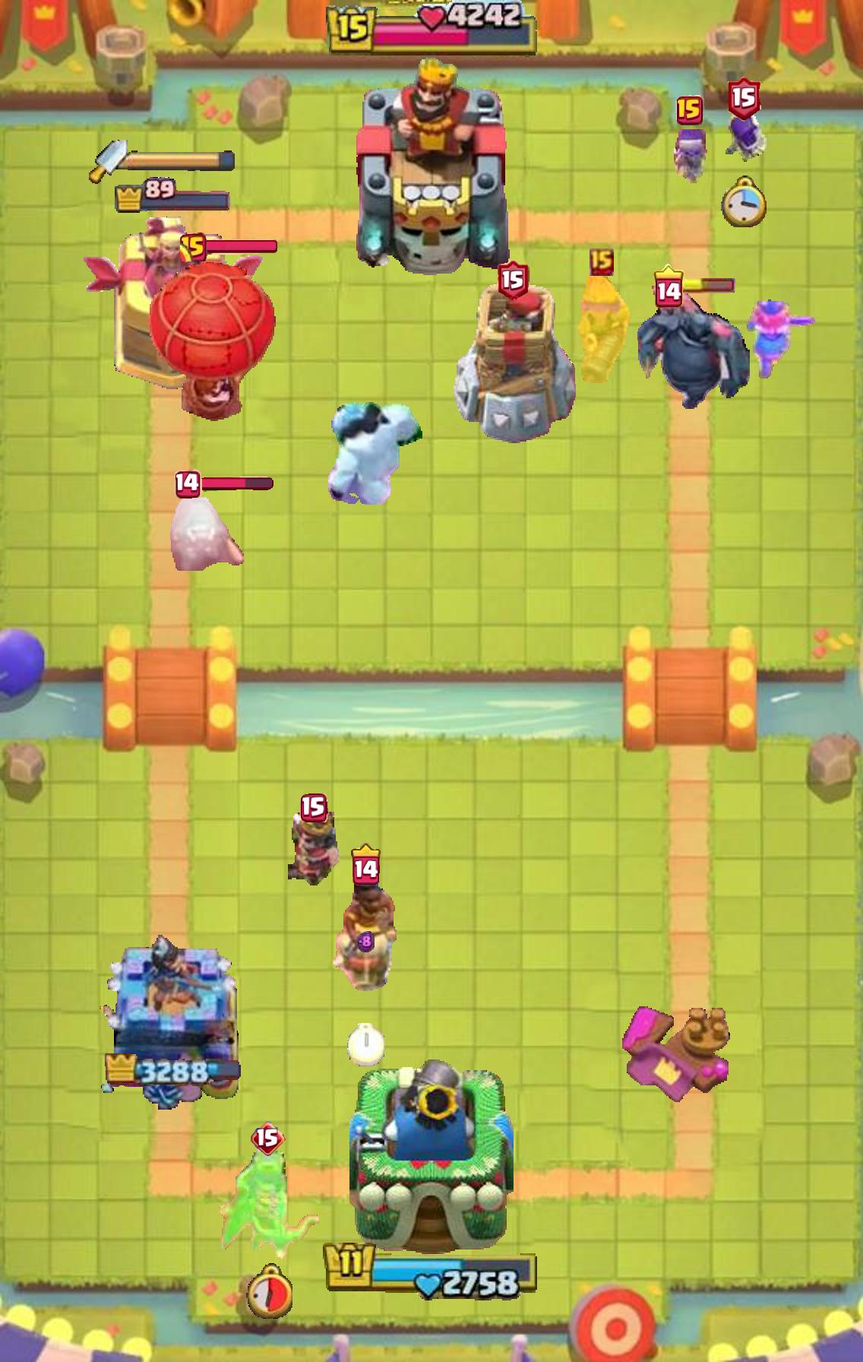bar: (204, 239, 277, 255), (198, 477, 273, 492), (681, 278, 735, 293)
bar-level: (728, 76, 761, 122), (653, 264, 684, 308), (351, 842, 381, 885), (498, 259, 529, 300), (251, 1121, 286, 1156), (300, 793, 329, 822), (676, 95, 704, 125), (174, 469, 202, 498), (180, 233, 207, 263), (590, 249, 614, 276)
